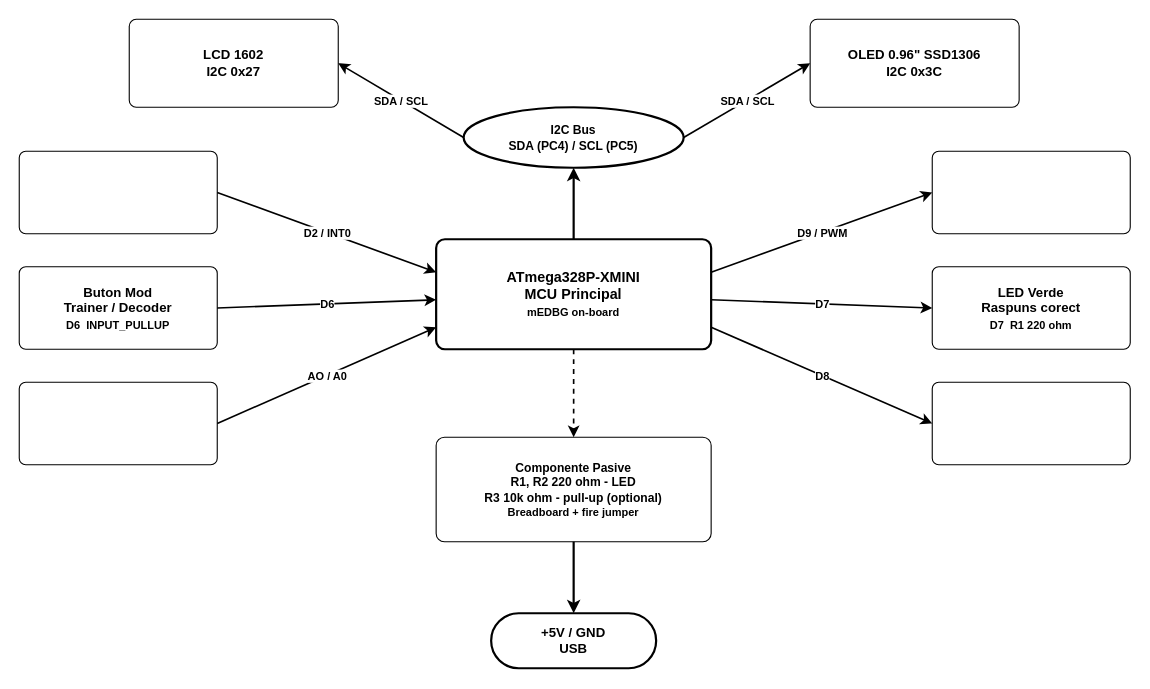
The diagram is 1150 pixels wide and 689 high, and some of its shapes have lost their labels. The centre of each missing label's shape, as x and y in pixels:
"Buzzer Piezo Pasiv D9 PWM tone()" belongs at (x=1030, y=192).
"Cheie Telegrafica Vintage URSS D2 INT0" belongs at (x=117, y=192).
"LED Rosu Eroare / Zgomot D8 R2 220 ohm" belongs at (x=1030, y=423).
"Senzor Sunet KY-037 Intrare acustica AO PC0 (A0) ADC" belongs at (x=117, y=423).
